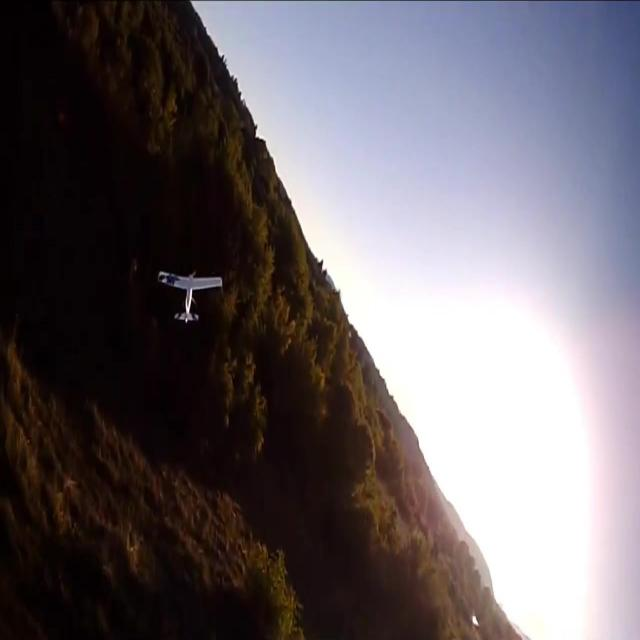iha: (189, 266, 191, 324)
